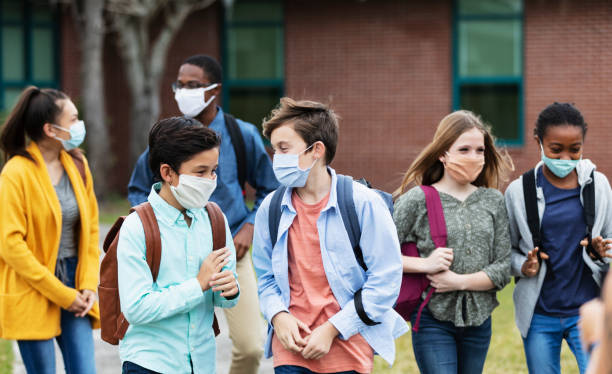with mask: (438, 118, 490, 186), (169, 145, 221, 213), (268, 122, 320, 190), (537, 108, 589, 176), (38, 95, 88, 157), (175, 54, 212, 123)
